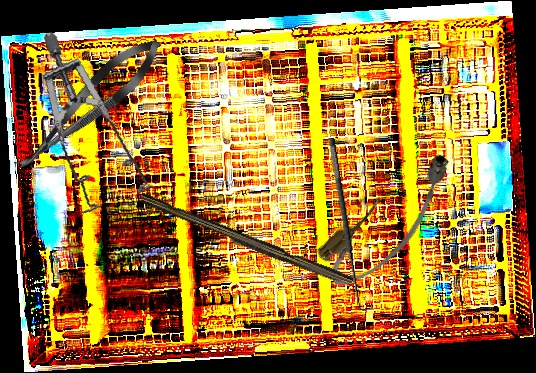Cannula: (310, 143, 473, 299)
Hook Surgical: (326, 135, 376, 313)
Micro Scissor: (5, 27, 171, 183)
Scalpel Handle: (137, 192, 356, 291)
Speculum: (13, 29, 179, 226)
